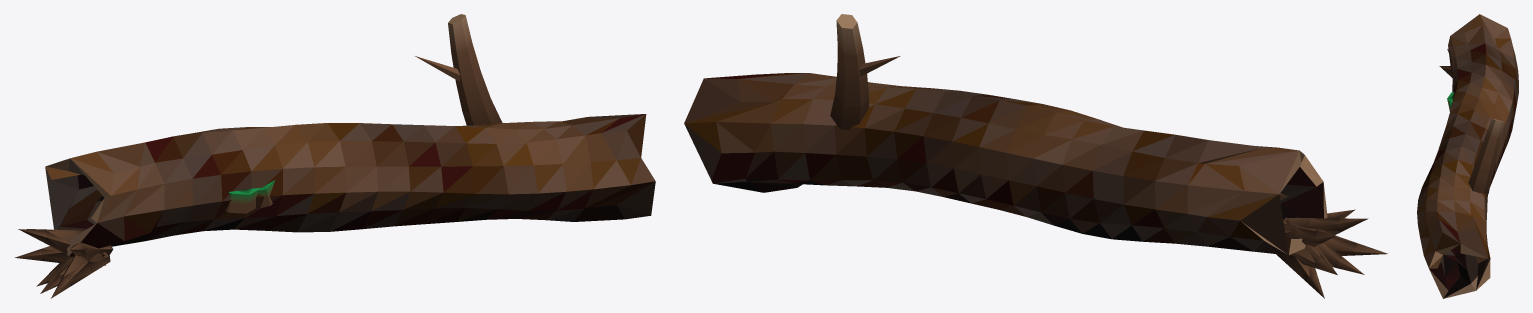
File: pohon_tumbang_uprooted_rainforest_24742.glb
3 views of the same model, side by side, from view 1: azimuth 30°, elevation 25°; view 2: azimuth 150°, elevation 25°; view 3: azimuth 270°, elevation 25° (orthographic). The views are drawn at different scales.
Visible parts, largest first — view 1: Tunggul_Akar_Tumbang; view 2: Tunggul_Akar_Tumbang; view 3: Tunggul_Akar_Tumbang.
Boxes of the visible parts, <box> form: Tunggul_Akar_Tumbang: <box>14,14,655,298</box>; Tunggul_Akar_Tumbang: <box>684,14,1387,298</box>; Tunggul_Akar_Tumbang: <box>1417,14,1518,298</box>.
Size of the model in its own units: 7.08 by 2.27 by 1.56.
